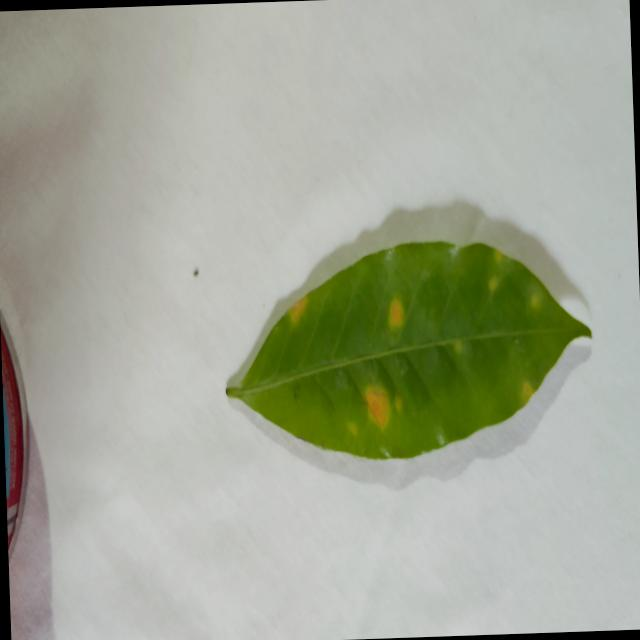KaratDaunKopi: (365, 387, 389, 429), (288, 296, 307, 322), (389, 299, 403, 327), (522, 381, 534, 403), (436, 430, 445, 446), (489, 276, 498, 292), (452, 340, 462, 353), (380, 447, 391, 458), (395, 395, 402, 412), (347, 422, 356, 435), (531, 294, 540, 307), (494, 249, 502, 261)
